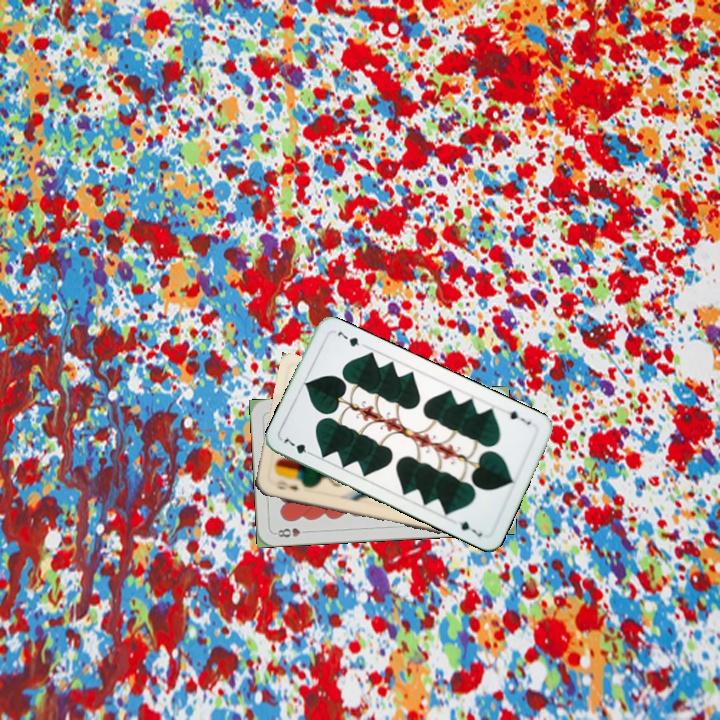EO: (272, 477, 301, 493)
G7: (280, 432, 317, 459), (505, 407, 533, 428)
H8: (271, 524, 311, 540)
